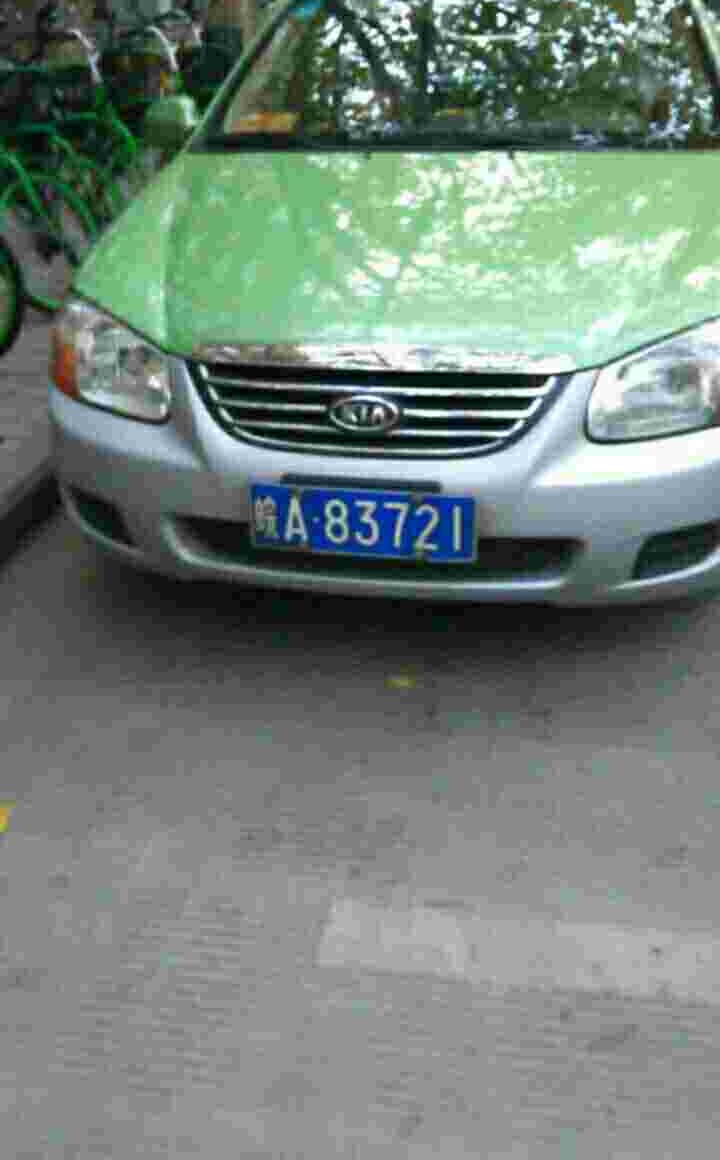license_plate: (258, 481, 483, 566)
